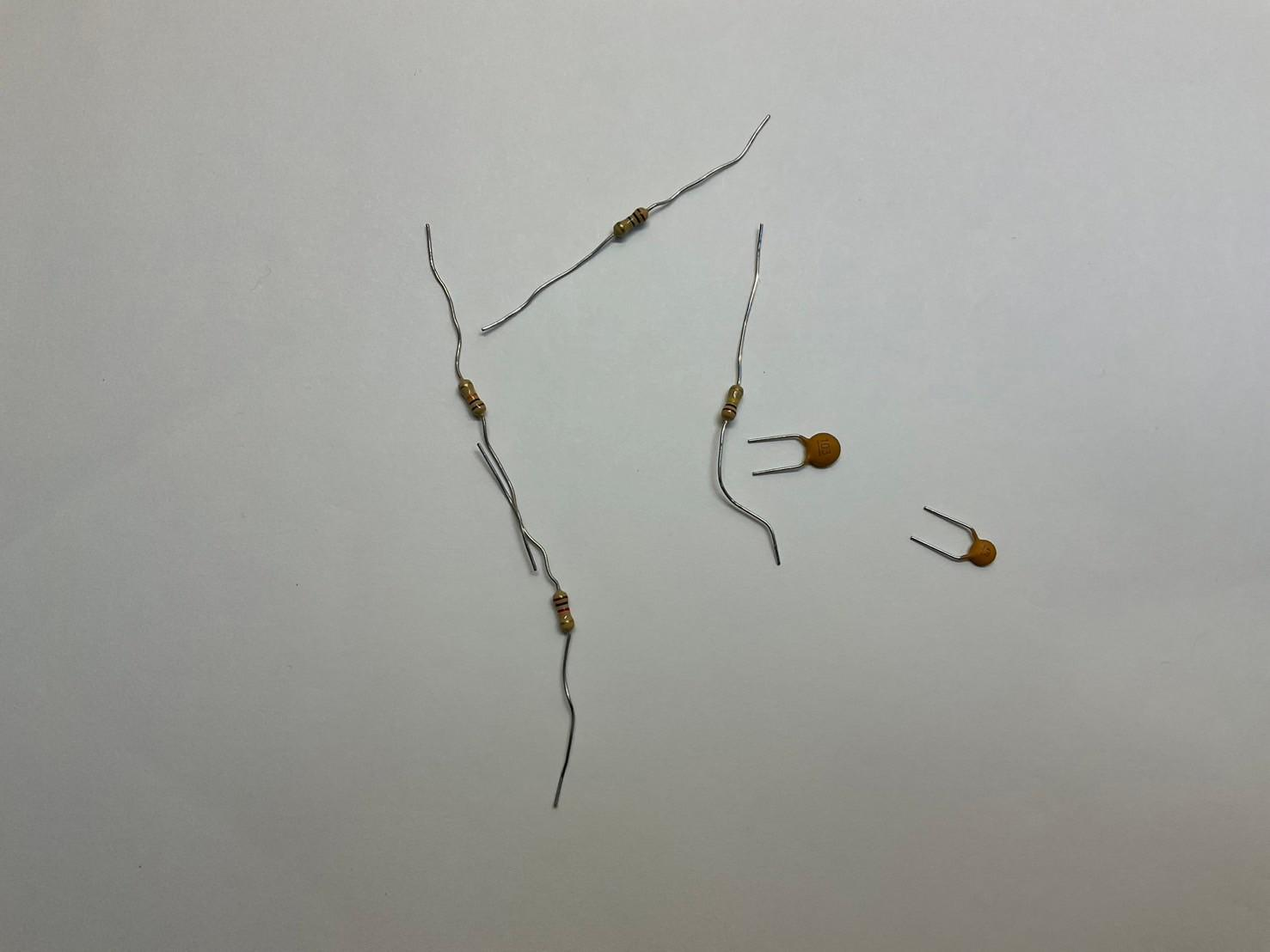resistor: (456, 376, 488, 419), (550, 590, 578, 635), (614, 206, 650, 239), (721, 383, 743, 422)
